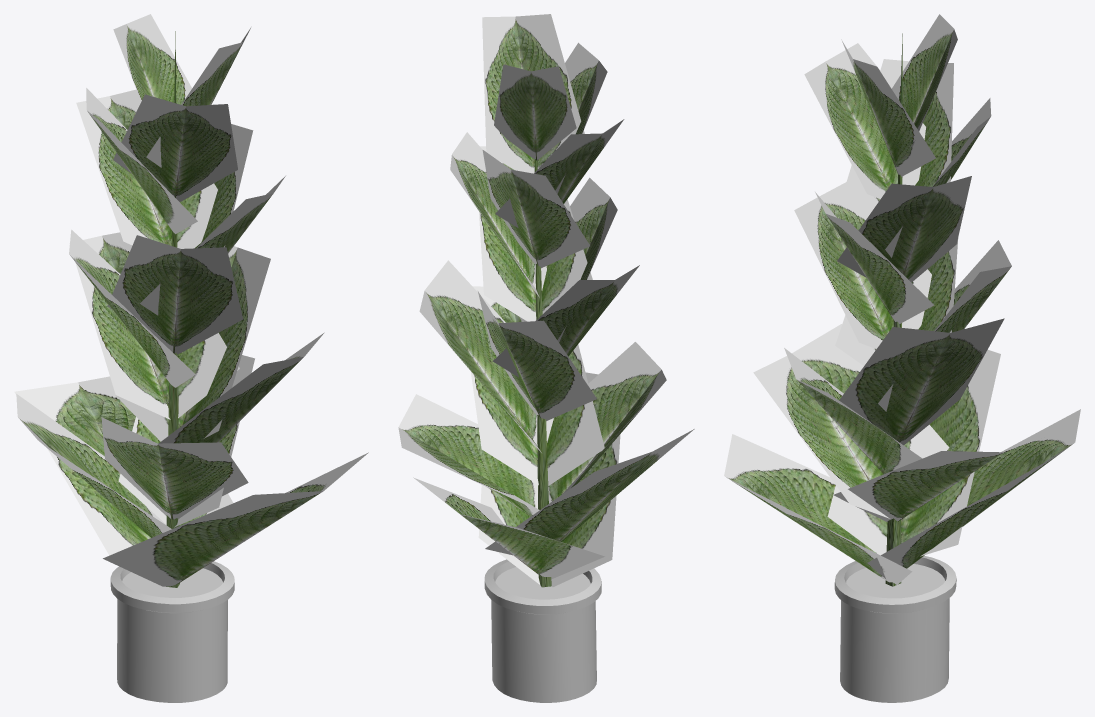
File: boho_plant2.glb
3 renders of one model, left to right at view 1: azimuth 30°, elevation 25°; view 2: azimuth 150°, elevation 25°; view 3: azimuth 270°, elevation 25°, orthographic.
Parts seen in each view (by area): view 1: Plane.001, Plane.002, Plane.000; view 2: Plane.001, Plane.002, Plane.000; view 3: Plane.001, Plane.002, Plane.000.
Part boxes in pixels (bbox=[...]): Plane.001: bbox=[14, 14, 368, 587]; Plane.002: bbox=[110, 561, 234, 702]; Plane.000: bbox=[122, 568, 223, 597]; Plane.001: bbox=[398, 14, 694, 587]; Plane.002: bbox=[484, 559, 601, 702]; Plane.000: bbox=[495, 567, 590, 599]; Plane.001: bbox=[724, 14, 1080, 586]; Plane.002: bbox=[834, 555, 956, 702]; Plane.000: bbox=[846, 564, 944, 598].
Bounding box in the file's own units: 1.14 × 2.63 × 1.3.
Materials: 3 (1 with a texture image).
